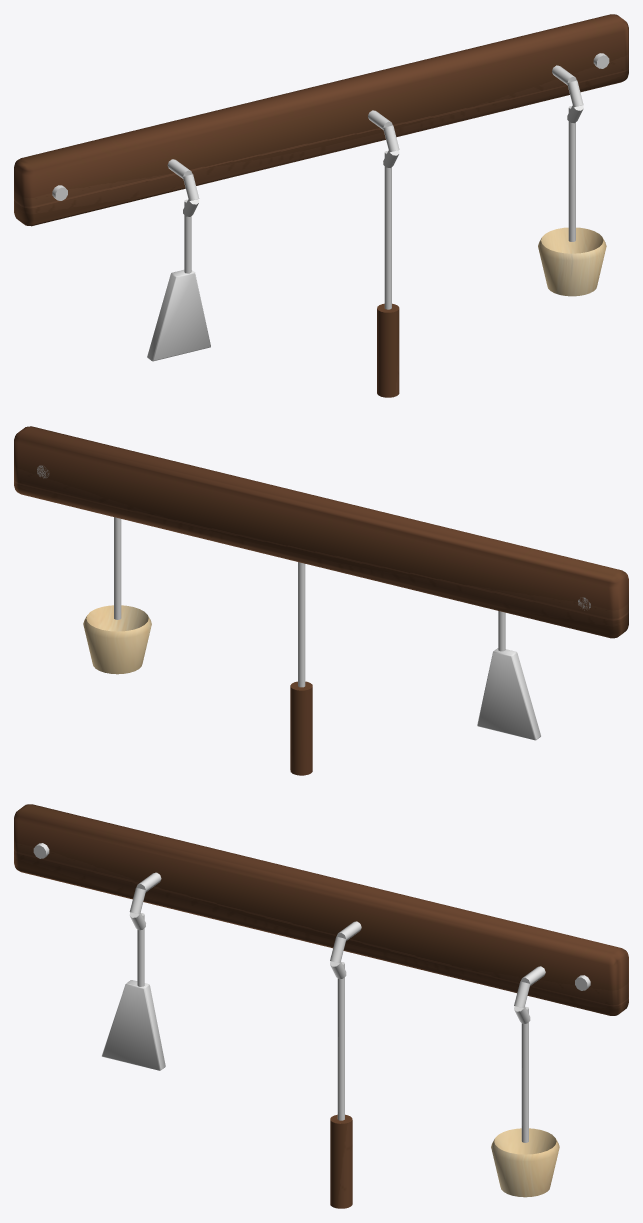
The model's file is CM_LI03_ToolRail.fbx.
3 views of the same model, one above another, from view 1: azimuth 30°, elevation 25°; view 2: azimuth 150°, elevation 25°; view 3: azimuth 330°, elevation 25° (orthographic).
Visible parts, largest first — view 1: CM_LI03_ToolRail; view 2: CM_LI03_ToolRail; view 3: CM_LI03_ToolRail.
Boxes of the visible parts, x1=… form: CM_LI03_ToolRail: x1=14, y1=14, x2=628, y2=397; CM_LI03_ToolRail: x1=14, y1=426, x2=628, y2=775; CM_LI03_ToolRail: x1=14, y1=804, x2=628, y2=1208.
Size of the model in its own units: 1.12 by 0.525 by 0.155.
